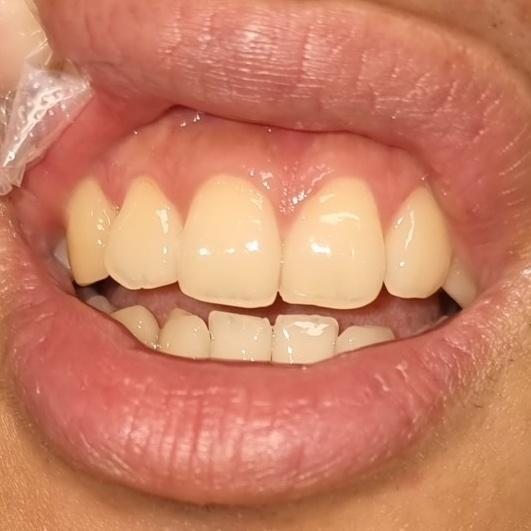Crowding: (62, 173, 157, 290)
Healthy: (279, 180, 447, 312)
